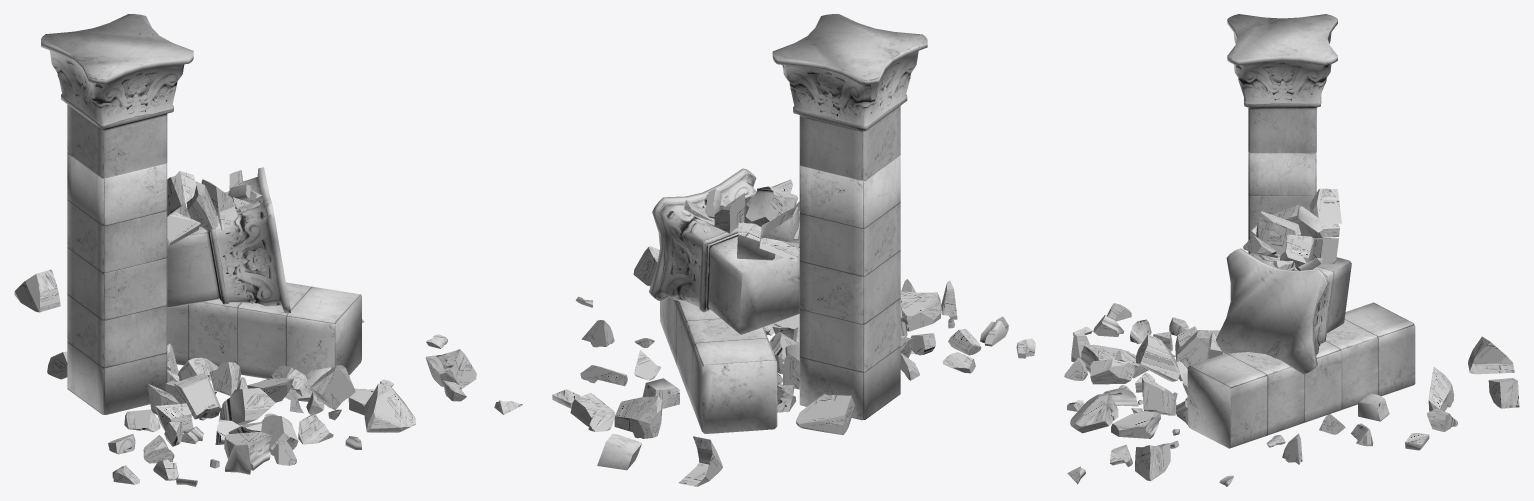
3 views of the same model, side by side, from view 1: azimuth 30°, elevation 25°; view 2: azimuth 150°, elevation 25°; view 3: azimuth 270°, elevation 25° (orthographic). The views are drawn at different scales.
Visible parts, largest first — view 1: Decoration, Cube.001, Cube; view 2: Decoration, Cube.001, Cube; view 3: Decoration, Cube, Cube.001.
Part boxes in pixels (box(x1,y1,x2,y2)): Decoration: box(14, 167, 522, 486); Cube.001: box(67, 152, 167, 414); Cube: box(41, 14, 193, 178); Decoration: box(552, 168, 1035, 486); Cube.001: box(799, 154, 900, 420); Cube: box(772, 14, 927, 180); Decoration: box(1064, 188, 1519, 486); Cube: box(1227, 14, 1337, 152); Cube.001: box(1248, 152, 1316, 255).
Size of the model in its own units: 18.38 by 15.52 by 20.21.
2 materials, 2 textured.
